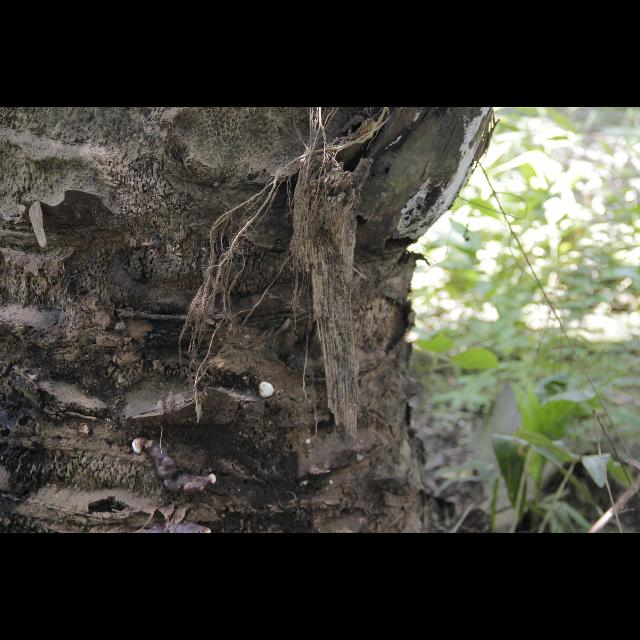ganoderma: (146, 439, 210, 496)
primordium: (259, 382, 275, 400), (133, 439, 145, 456), (210, 474, 218, 486), (307, 439, 312, 447)
